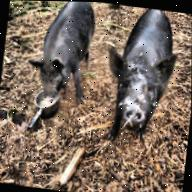boar: (98, 4, 181, 148), (23, 1, 98, 105)
